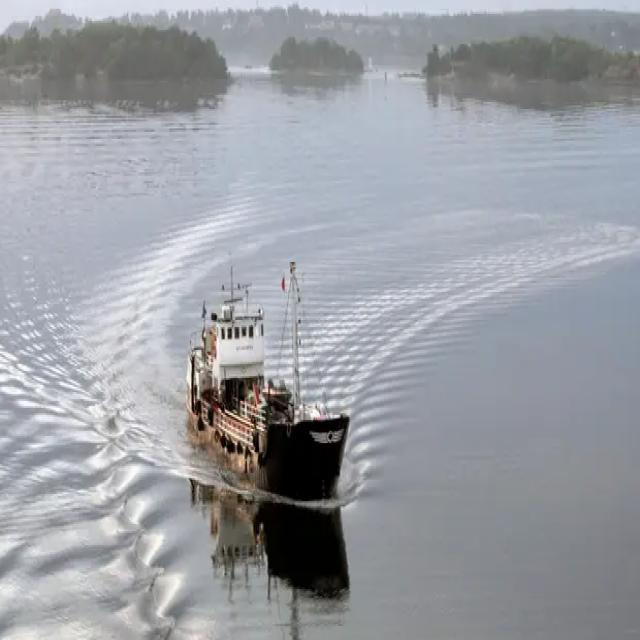fishing boat: (183, 254, 354, 496)
